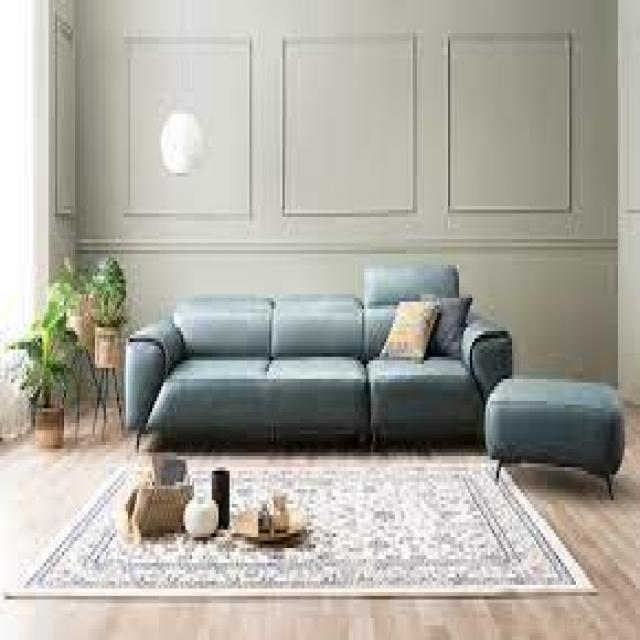Sofa: (100, 243, 538, 480)
